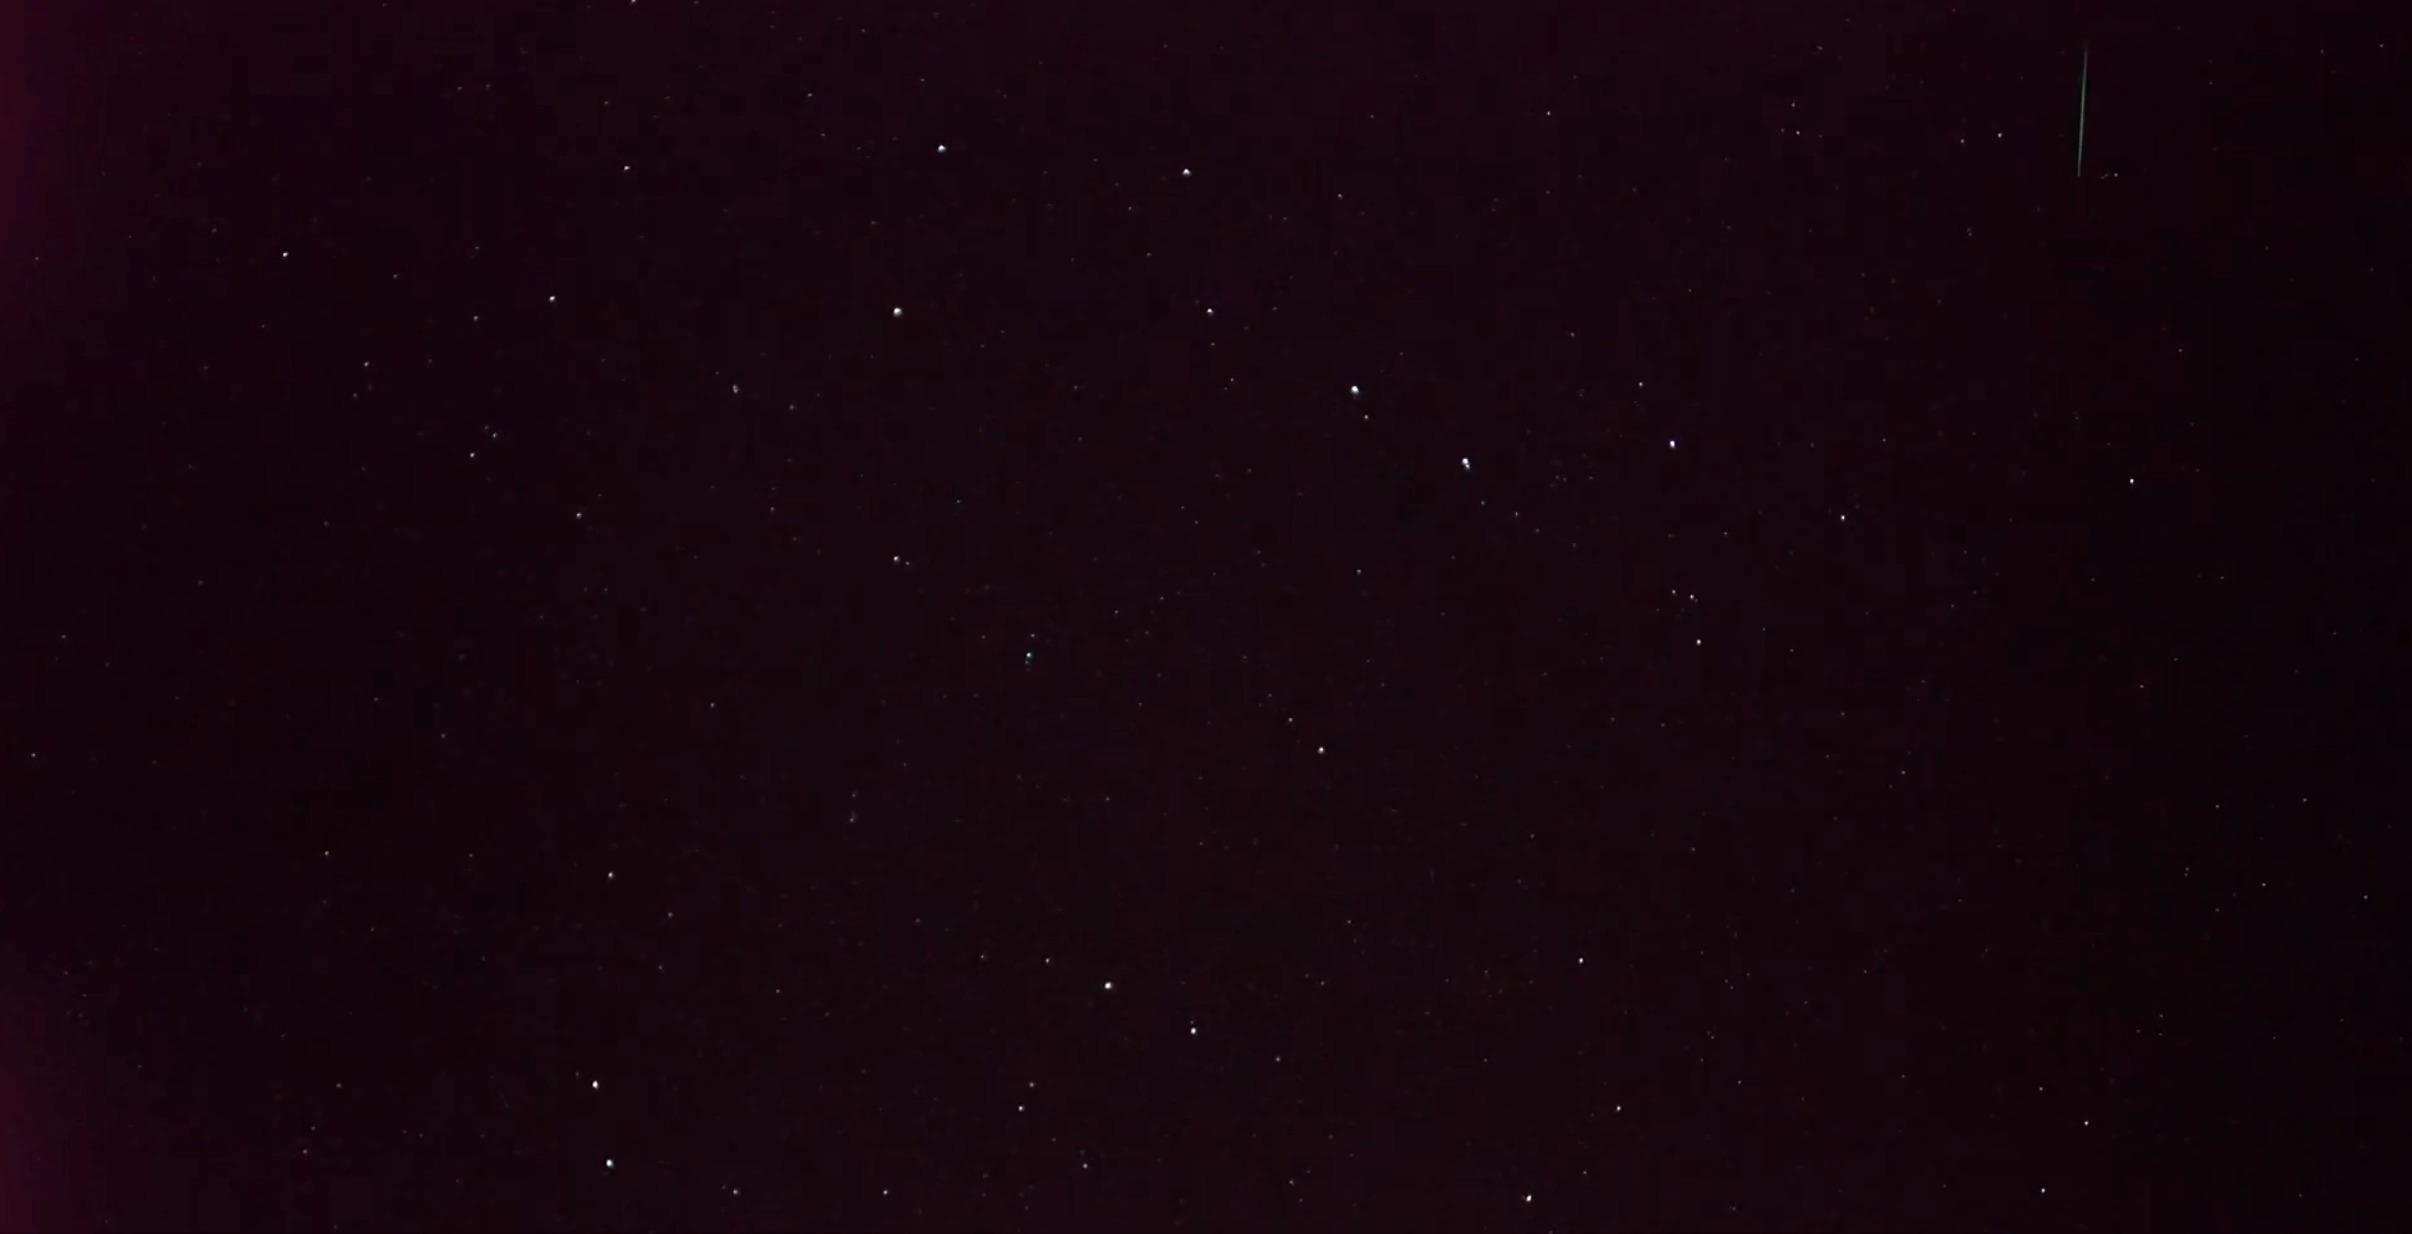meteorite: (2045, 22, 2118, 179)
